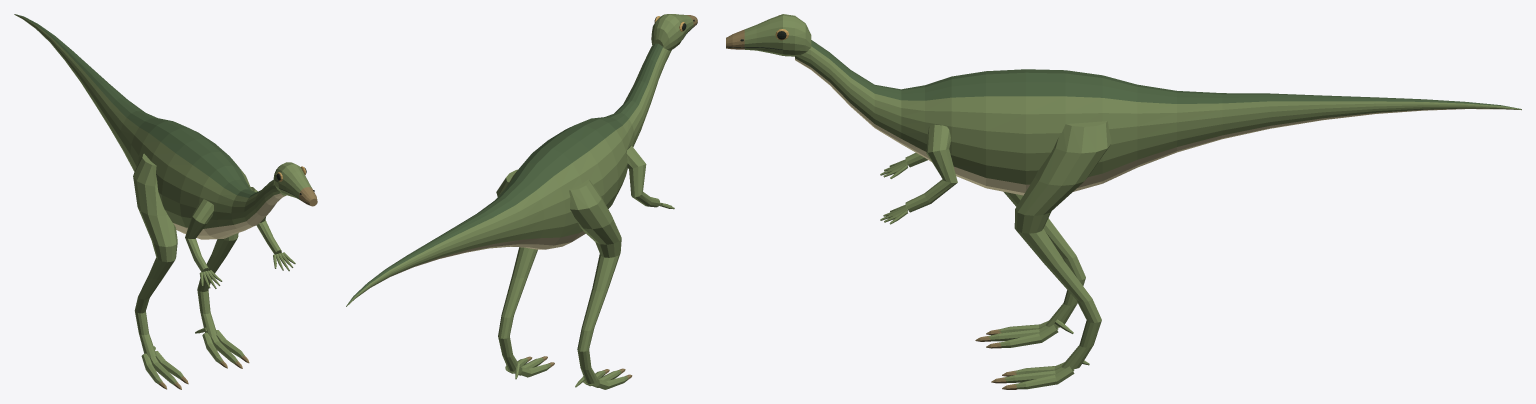
3 views of the same model, side by side, from view 1: azimuth 30°, elevation 25°; view 2: azimuth 150°, elevation 25°; view 3: azimuth 270°, elevation 25° (orthographic). The views are drawn at different scales.
Visible parts, largest first — view 1: Continuous_neck_torso_balancing_tail, Long_light_hindlimbs, Five_manual_and_three_main_pedal_digits, Short_free_forelimbs, Small_tapered_beaked_head; view 2: Continuous_neck_torso_balancing_tail, Long_light_hindlimbs, Five_manual_and_three_main_pedal_digits, Small_tapered_beaked_head, Short_free_forelimbs; view 3: Continuous_neck_torso_balancing_tail, Long_light_hindlimbs, Five_manual_and_three_main_pedal_digits, Small_tapered_beaked_head, Short_free_forelimbs.
Boxes of the visible parts, left/top/right/bottom form: Continuous_neck_torso_balancing_tail: left=14, top=14, right=286, bottom=239; Long_light_hindlimbs: left=133, top=153, right=238, bottom=357; Five_manual_and_three_main_pedal_digits: left=141, top=252, right=295, bottom=384; Short_free_forelimbs: left=185, top=187, right=281, bottom=272; Small_tapered_beaked_head: left=273, top=162, right=317, bottom=206; Continuous_neck_torso_balancing_tail: left=346, top=43, right=671, bottom=306; Long_light_hindlimbs: left=496, top=169, right=621, bottom=383; Five_manual_and_three_main_pedal_digits: left=505, top=202, right=674, bottom=389; Small_tapered_beaked_head: left=651, top=14, right=697, bottom=50; Short_free_forelimbs: left=626, top=145, right=659, bottom=207; Continuous_neck_torso_balancing_tail: left=795, top=40, right=1521, bottom=195; Long_light_hindlimbs: left=1003, top=121, right=1111, bottom=369; Five_manual_and_three_main_pedal_digits: left=880, top=159, right=1089, bottom=389; Small_tapered_beaked_head: left=726, top=14, right=811, bottom=56; Short_free_forelimbs: left=905, top=124, right=957, bottom=212.
Bounding box in the file's own units: 0.5197 × 1.44 × 3.
